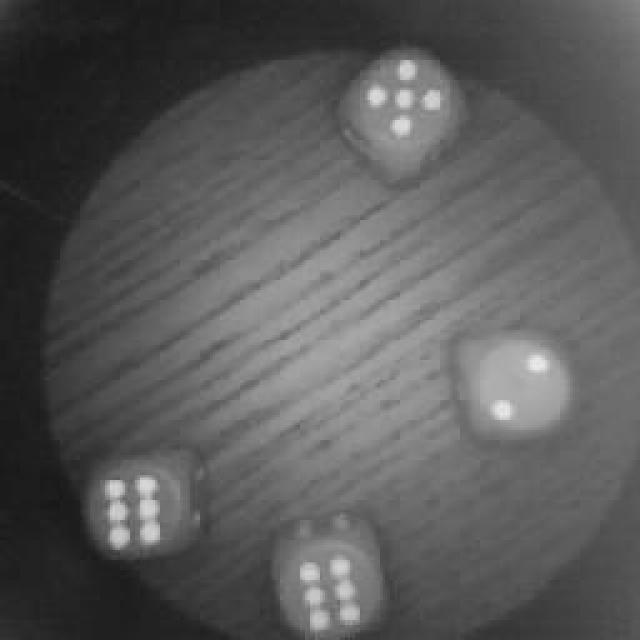dice_2: (450, 328, 585, 452)
dice_5: (335, 38, 473, 172)
dice_6: (260, 515, 398, 640), (72, 445, 200, 575)
